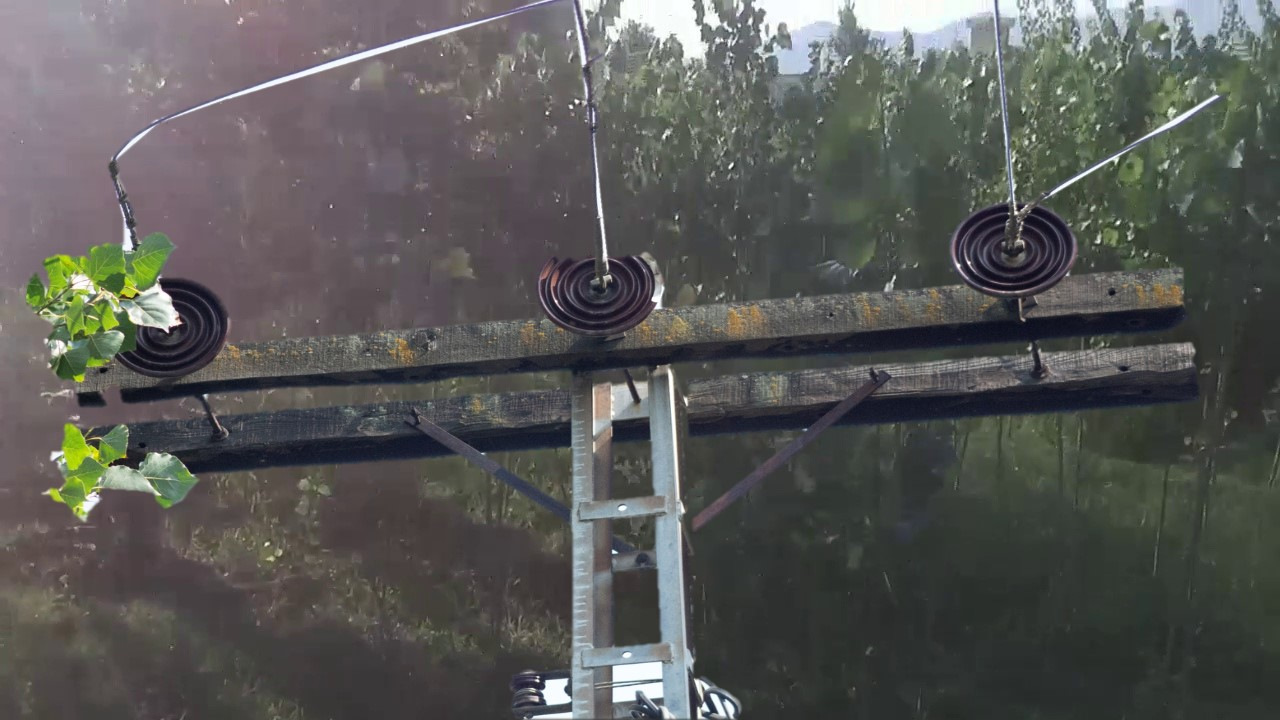defect_disc: (535, 243, 670, 342)
insulator_disc: (945, 201, 1087, 303), (118, 273, 234, 385)
